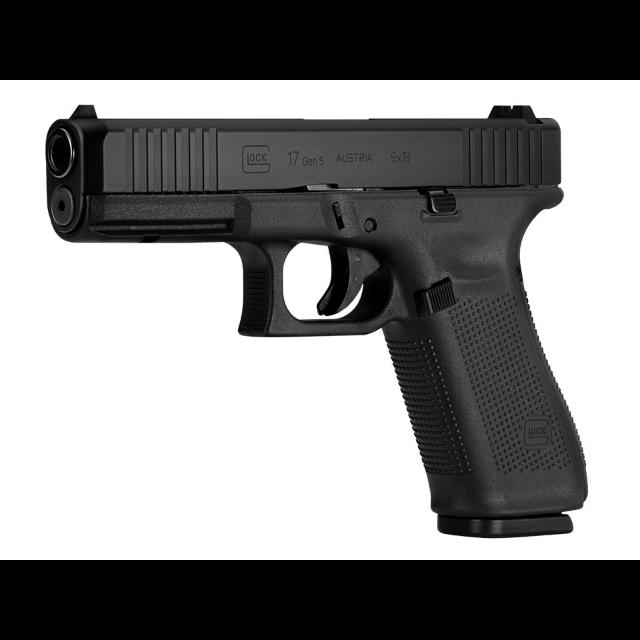handgun: (34, 99, 594, 545)
